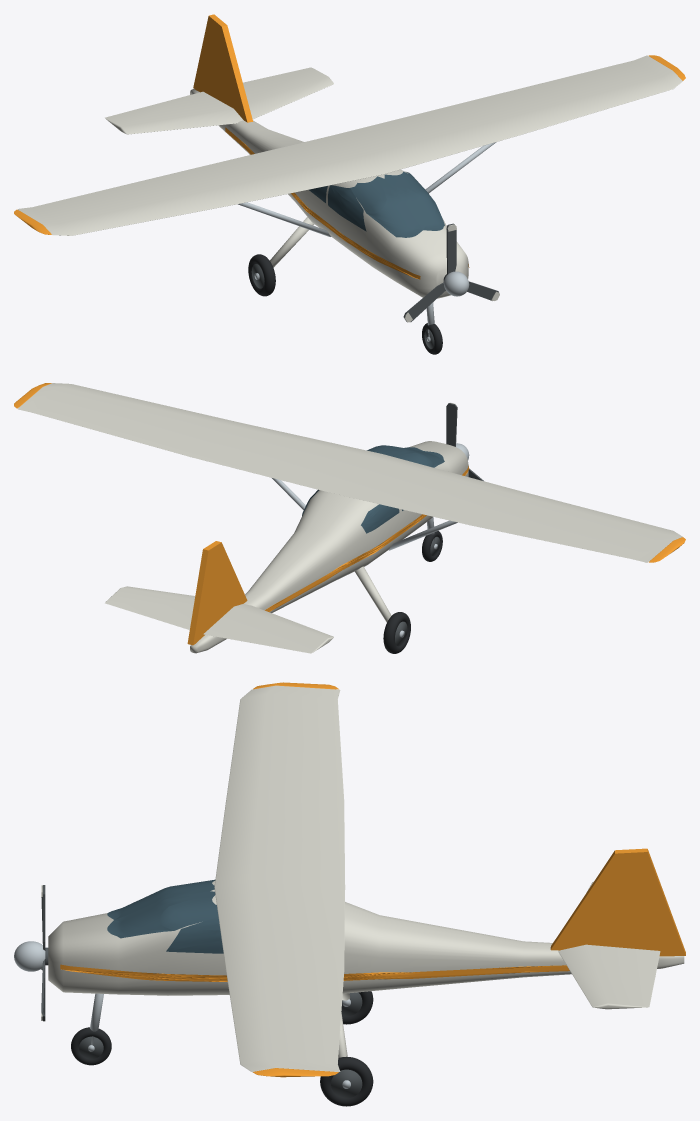
Rendered from Flugzeug.glb.
3 renders of one model, top to bottom at view 1: azimuth 30°, elevation 25°; view 2: azimuth 150°, elevation 25°; view 3: azimuth 270°, elevation 25°, orthographic. The views are drawn at different scales.
Visible parts, largest first — view 1: Flugzeug_Cremeweiss, Flugzeug_Getoentes Glas, Flugzeug_Reflektor, Flugzeug_Satin-Aluminium, Propeller_Pulverbeschichteter Stahl, Hauptrad_R_Reifen; view 2: Flugzeug_Cremeweiss, Flugzeug_Reflektor, Flugzeug_Getoentes Glas, Flugzeug_Satin-Aluminium, Hauptrad_R_Reifen, Propeller_Pulverbeschichteter Stahl; view 3: Flugzeug_Cremeweiss, Flugzeug_Reflektor, Flugzeug_Getoentes Glas, Hauptrad_L_Reifen, Flugzeug_Satin-Aluminium, Bugrad_Reifen, Hauptrad_L_Felge.
Boxes of the visible parts, left/top/right/bottom form: Flugzeug_Cremeweiss: left=17, top=55, right=682, bottom=298; Flugzeug_Getoentes Glas: left=309, top=171, right=444, bottom=237; Flugzeug_Reflektor: left=14, top=14, right=685, bottom=279; Flugzeug_Satin-Aluminium: left=238, top=142, right=496, bottom=336; Propeller_Pulverbeschichteter Stahl: left=403, top=223, right=498, bottom=321; Hauptrad_R_Reifen: left=248, top=254, right=275, bottom=296; Flugzeug_Cremeweiss: left=18, top=383, right=682, bottom=653; Flugzeug_Reflektor: left=14, top=383, right=685, bottom=645; Flugzeug_Getoentes Glas: left=302, top=445, right=444, bottom=533; Flugzeug_Satin-Aluminium: left=272, top=443, right=469, bottom=550; Hauptrad_R_Reifen: left=383, top=612, right=410, bottom=653; Propeller_Pulverbeschichteter Stahl: left=446, top=403, right=483, bottom=480; Flugzeug_Cremeweiss: left=48, top=685, right=684, bottom=1071; Flugzeug_Reflektor: left=60, top=682, right=685, bottom=1077; Flugzeug_Getoentes Glas: left=107, top=879, right=223, bottom=953; Hauptrad_L_Reifen: left=320, top=1056, right=373, bottom=1106; Flugzeug_Satin-Aluminium: left=14, top=941, right=103, bottom=1045; Bugrad_Reifen: left=71, top=1027, right=111, bottom=1065; Hauptrad_L_Felge: left=331, top=1069, right=362, bottom=1098.
Size of the model in its own units: 11.09 by 2.85 by 8.03.
